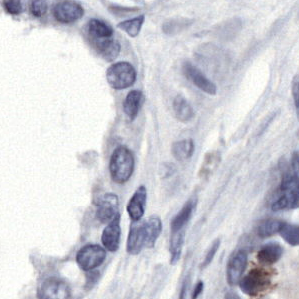Lymphocyte: (241, 266, 279, 296)
